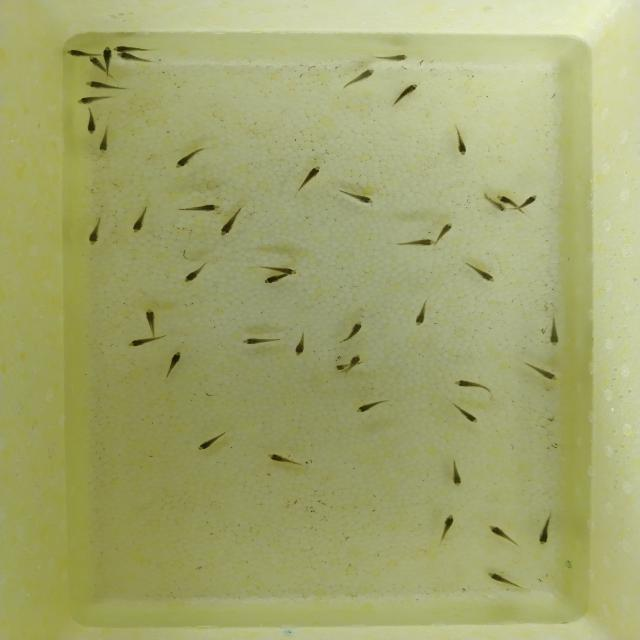fingerling: (484, 520, 520, 546), (532, 519, 556, 551), (530, 362, 562, 382), (346, 189, 381, 207), (126, 212, 149, 239), (185, 200, 226, 214), (303, 162, 326, 186), (484, 569, 514, 587), (472, 266, 500, 285), (86, 220, 104, 248), (219, 214, 238, 240), (346, 318, 365, 344), (166, 346, 186, 370), (172, 151, 194, 172), (123, 336, 161, 348), (188, 438, 226, 450), (453, 135, 471, 160), (440, 511, 455, 541), (411, 301, 428, 327), (140, 307, 159, 329), (435, 220, 458, 238), (457, 408, 482, 424), (181, 267, 203, 285), (398, 82, 424, 97), (291, 335, 307, 359), (267, 452, 294, 466), (353, 68, 375, 85), (76, 92, 102, 106), (261, 273, 289, 286), (96, 133, 112, 155), (384, 51, 411, 64), (548, 322, 561, 348), (520, 193, 540, 209), (259, 265, 299, 273), (355, 401, 381, 413), (451, 379, 482, 389), (62, 48, 92, 58), (82, 80, 112, 90), (491, 199, 508, 216), (415, 235, 437, 248), (449, 464, 462, 486), (86, 113, 98, 136), (236, 337, 275, 344), (496, 192, 515, 206), (115, 51, 138, 62), (87, 57, 105, 70), (328, 364, 354, 371), (115, 43, 135, 52), (349, 352, 361, 367), (101, 44, 113, 58)
